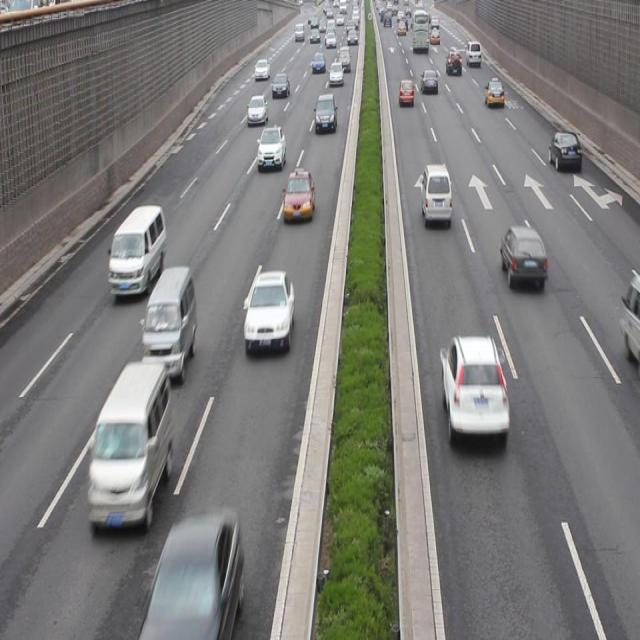car: (143, 516, 240, 640), (439, 334, 508, 448), (243, 269, 295, 352), (498, 225, 546, 289), (284, 172, 314, 219), (546, 130, 579, 172), (256, 124, 285, 168), (313, 91, 336, 132)
truck: (89, 359, 170, 533), (142, 268, 197, 379), (109, 206, 167, 298), (419, 165, 451, 226), (619, 279, 640, 362)
